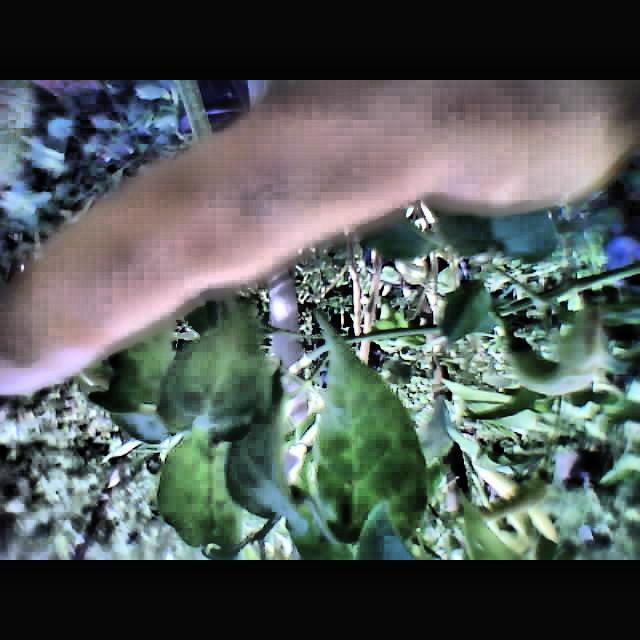Cabai: (6, 80, 632, 321)
